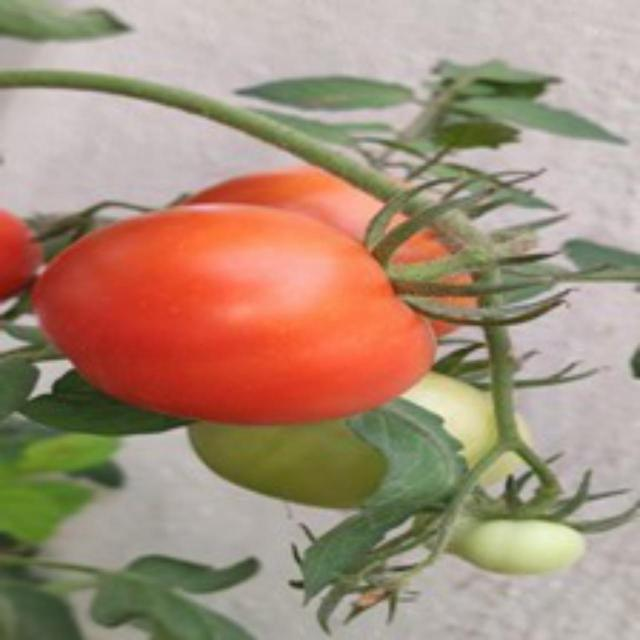tomato: (33, 202, 441, 428)
